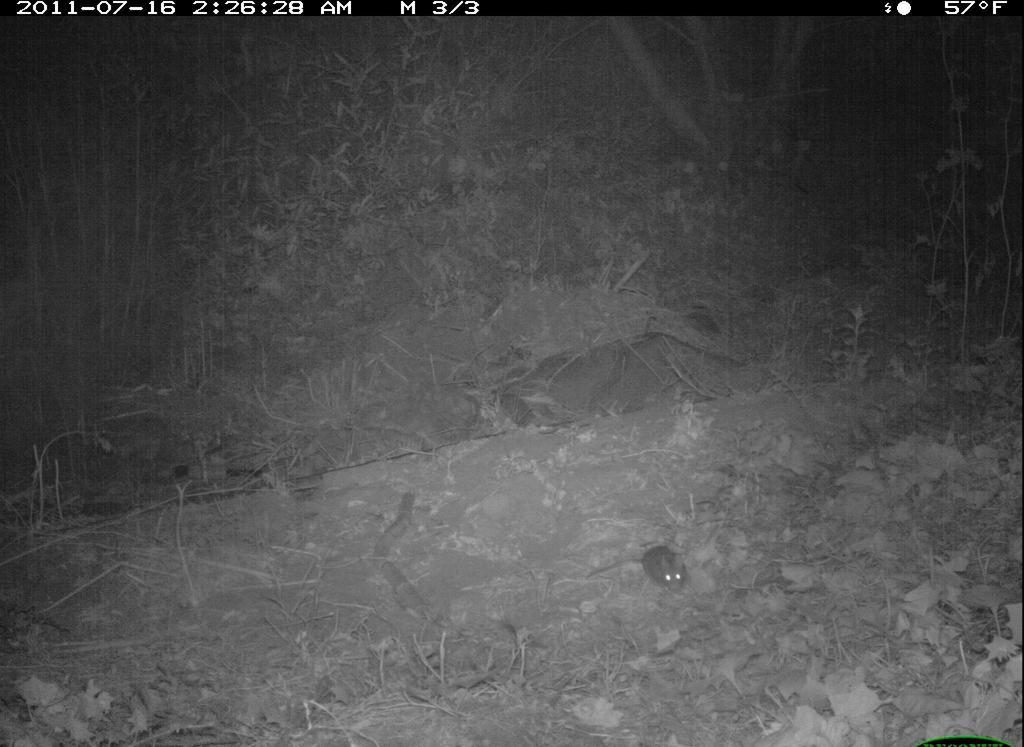rodent: (587, 543, 697, 602)
